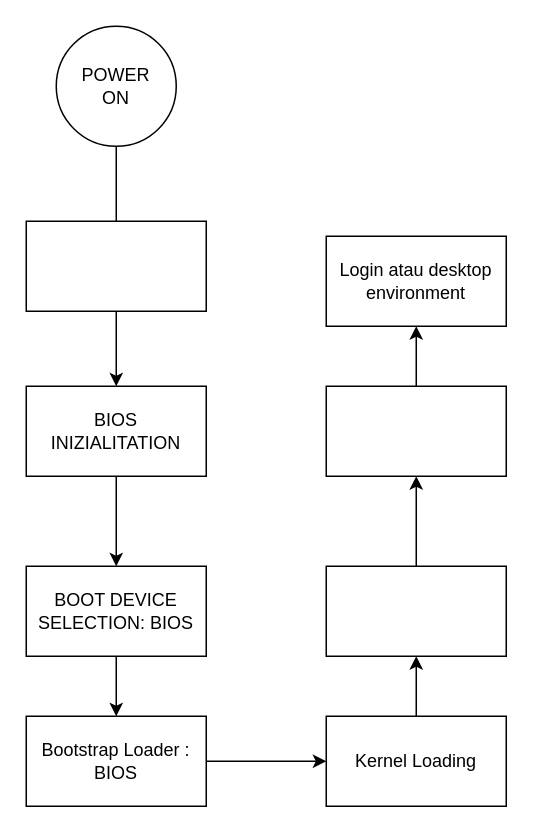
Image size: 533x833. Some labels were removed from this diagram. Here are the shapes that lost their labels. From the top down, the centre of each, then its label:
[115,265]: POST (Power-On Self-Test)
[415,430]: User Space Initialization
[415,610]: Kernel Initialization
